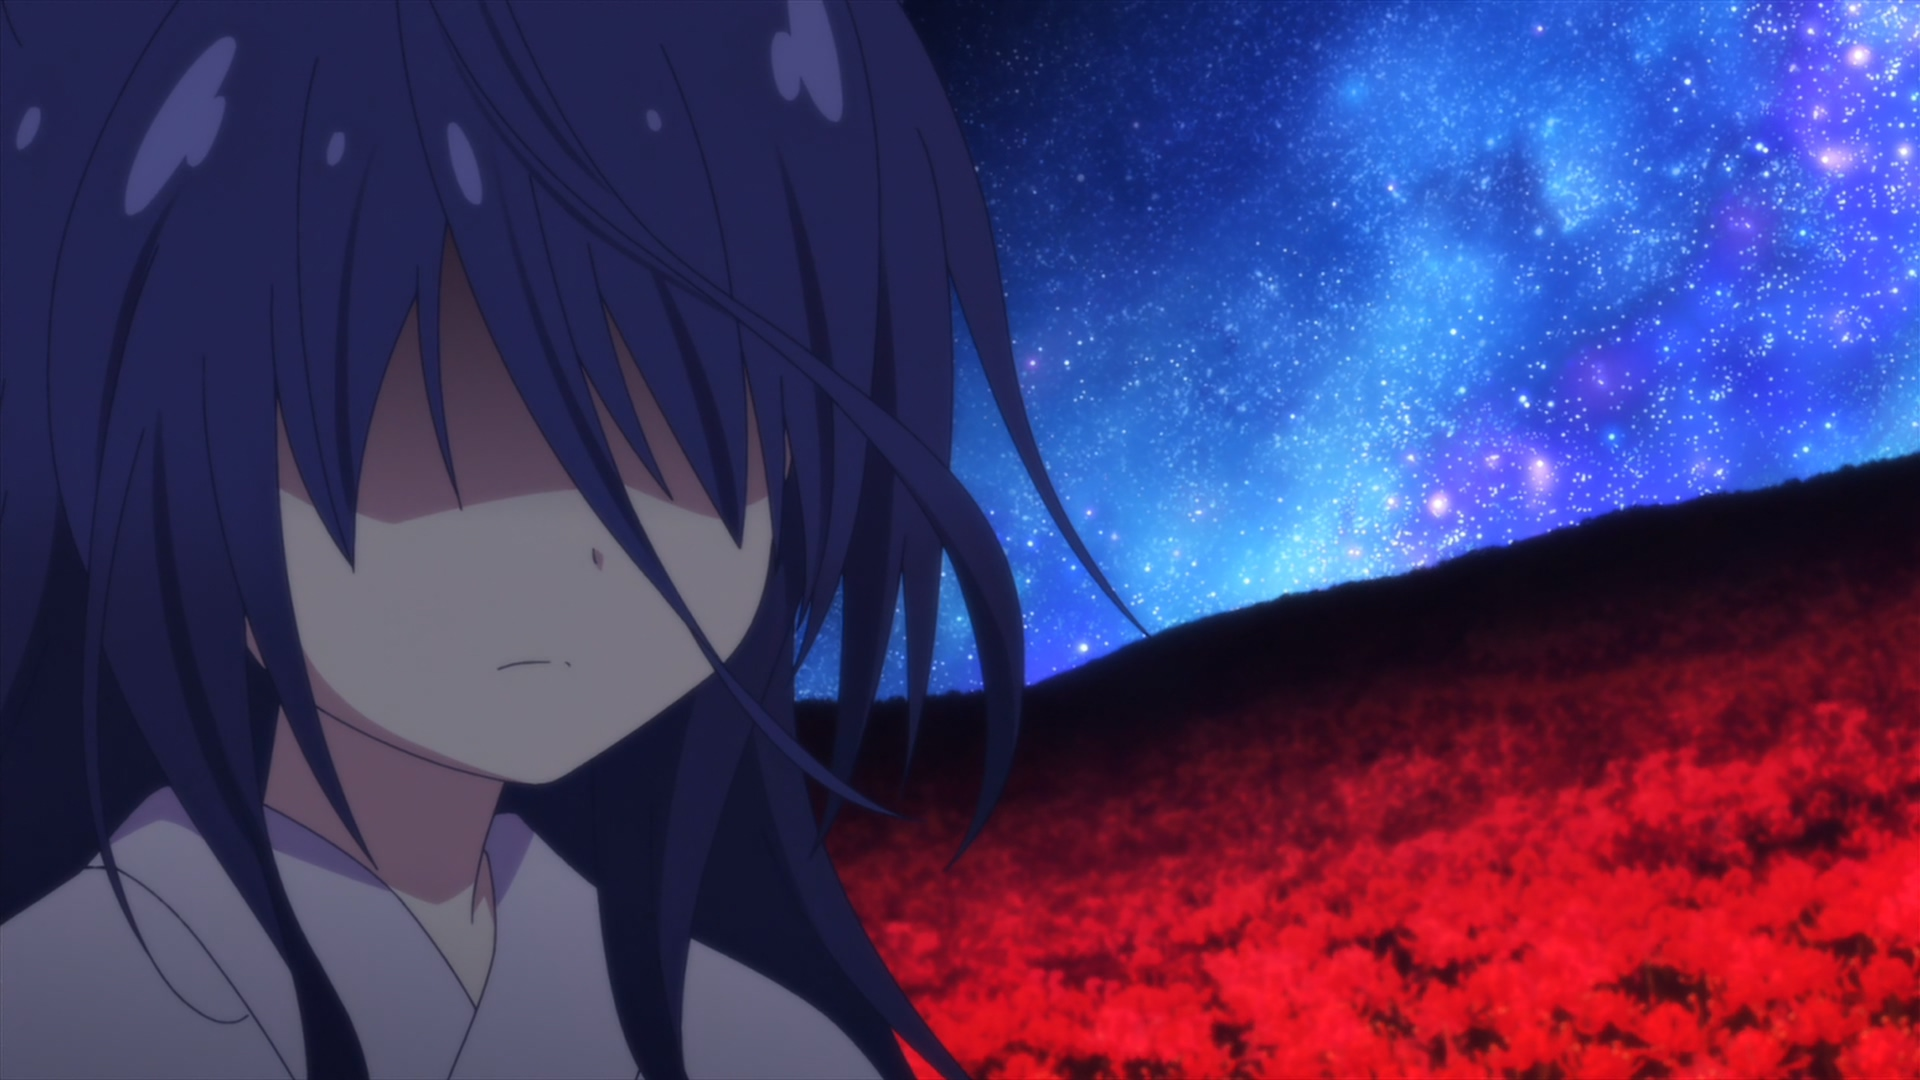皋: (1, 1, 1153, 1080)
